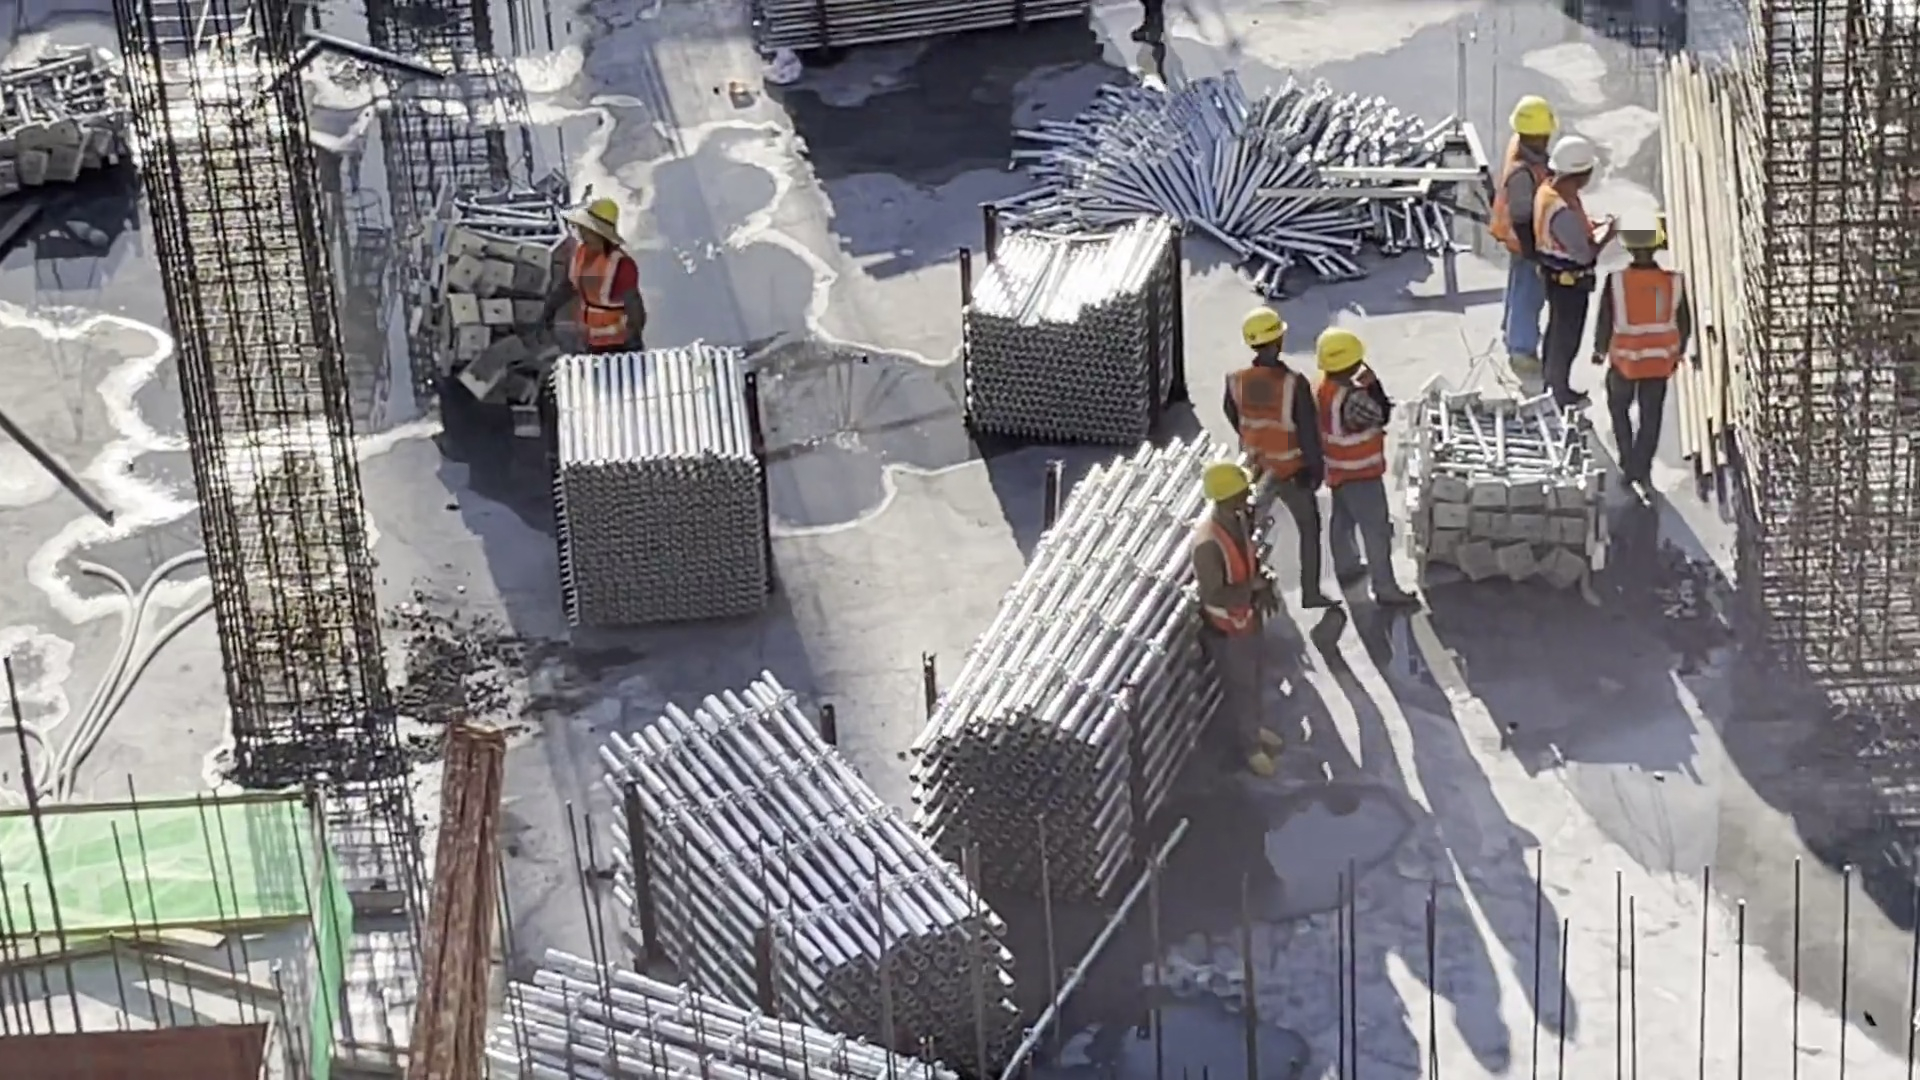helmet: (1563, 141, 1611, 217), (1234, 311, 1291, 369), (1618, 211, 1659, 264), (1508, 101, 1556, 146), (593, 197, 636, 244), (1204, 449, 1249, 491), (1328, 347, 1364, 392)
person: (1244, 313, 1329, 590), (1199, 476, 1299, 695), (1309, 333, 1388, 545), (1616, 233, 1683, 466), (561, 205, 656, 333), (1509, 95, 1549, 331), (1546, 120, 1581, 356)
vest: (1591, 252, 1671, 372), (1201, 507, 1264, 614), (1318, 392, 1386, 487), (571, 247, 644, 336), (1234, 382, 1291, 482), (1536, 192, 1591, 287), (1499, 159, 1536, 242)
